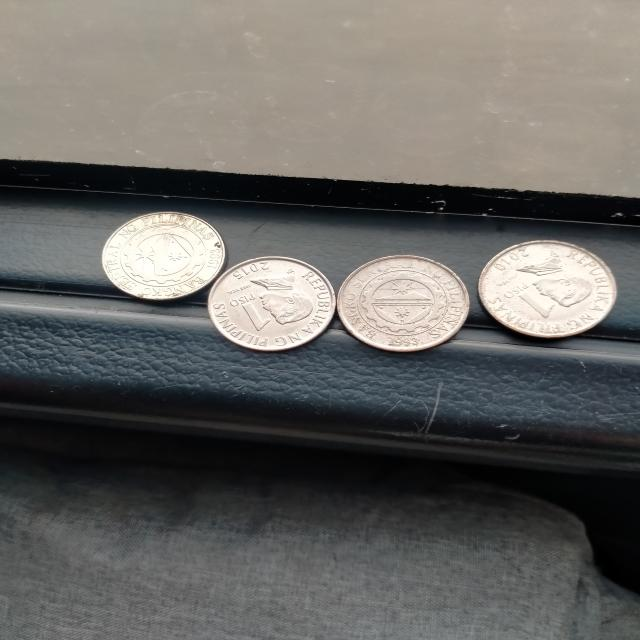1_Old_Back: (350, 266, 453, 335)
